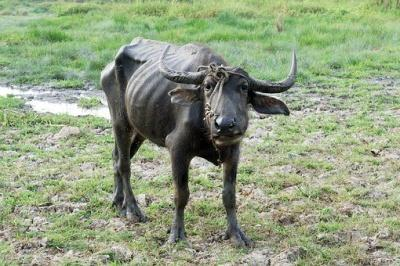buffalo: (101, 38, 296, 245)
